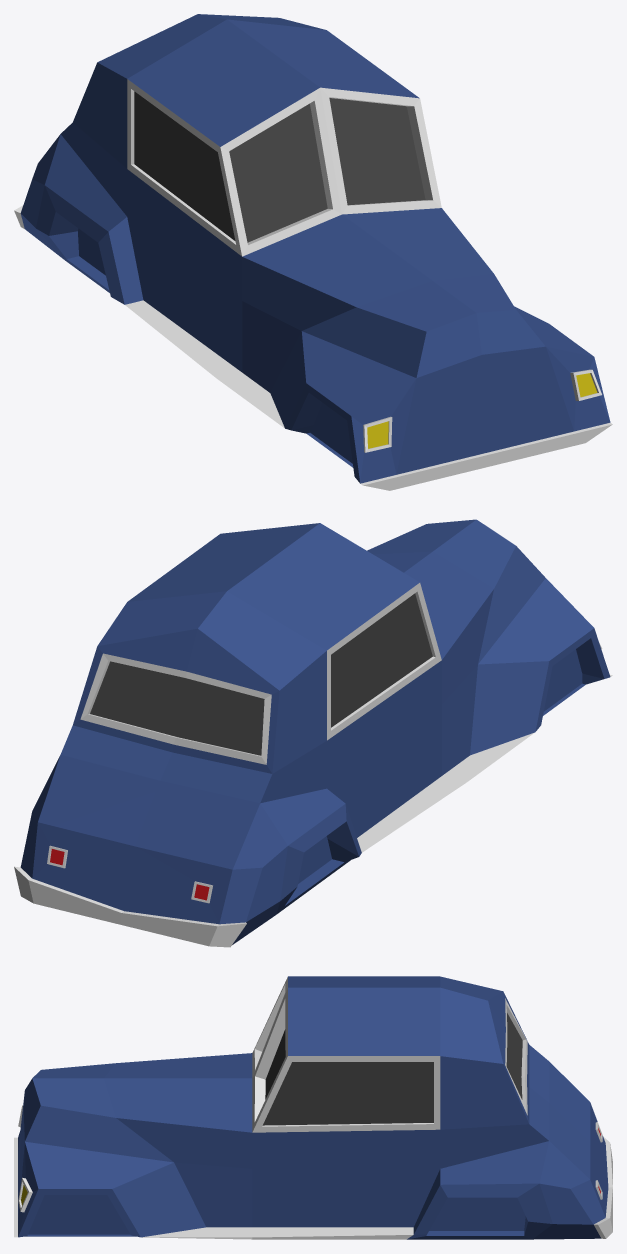
The model's file is Classic Car Body.fbx.
The picture shows the model from 3 angles, top to bottom: view 1: azimuth 30°, elevation 25°; view 2: azimuth 150°, elevation 25°; view 3: azimuth 270°, elevation 25°; orthographic projection. The views are drawn at different scales.
Visible parts, largest first — view 1: Classic Car.001; view 2: Classic Car.001; view 3: Classic Car.001.
Part boxes in pixels (bbox=[...]): Classic Car.001: bbox=[14, 14, 612, 490]; Classic Car.001: bbox=[14, 519, 612, 947]; Classic Car.001: bbox=[14, 976, 612, 1239].
Size of the model in its own units: 87.77 by 86.03 by 223.
